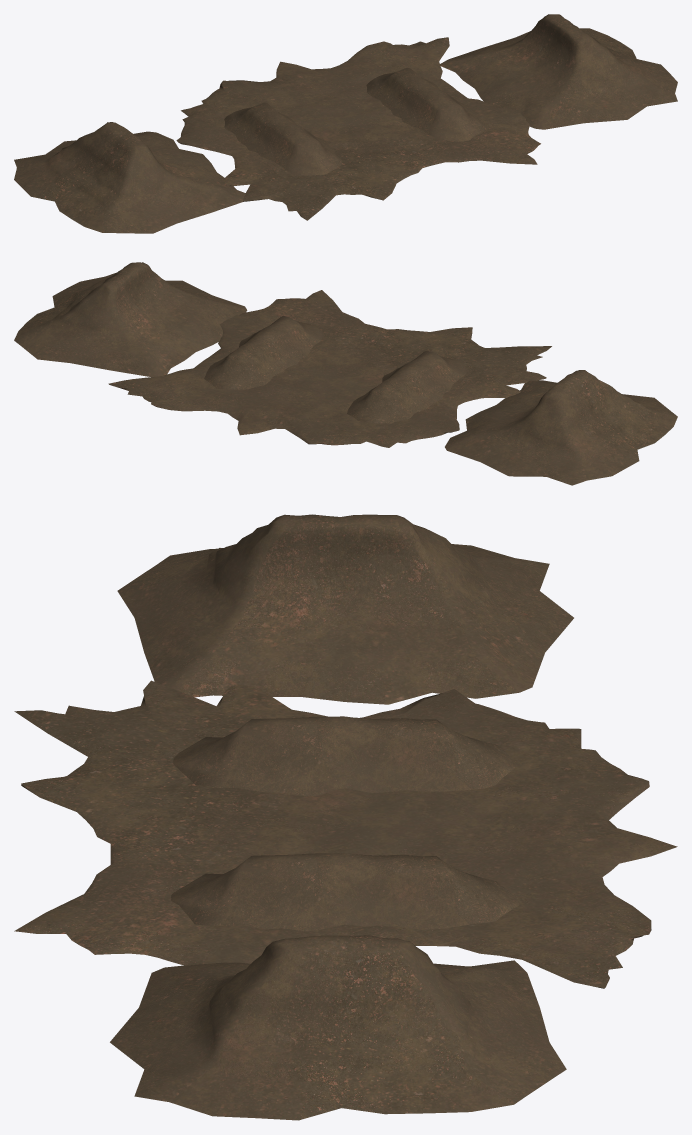
Rendered from temporary_beastdome_dirt_mound_ground.fbx.
The picture shows the model from 3 angles, top to bottom: view 1: azimuth 30°, elevation 25°; view 2: azimuth 150°, elevation 25°; view 3: azimuth 270°, elevation 25°; orthographic projection. The views are drawn at different scales.
Visible parts, largest first — view 1: dirt_ground_01, dirt_ramp_01, dirt_ramp_02, dirt_hill_02, dirt_hill_01; view 2: dirt_ground_01, dirt_ramp_01, dirt_ramp_02, dirt_hill_02, dirt_hill_01; view 3: dirt_ground_01, dirt_ramp_01, dirt_ramp_02, dirt_hill_01, dirt_hill_02.
Boxes of the visible parts, x1=… form: dirt_ground_01: x1=176, y1=37, x2=540, y2=220; dirt_ramp_01: x1=14, y1=122, x2=245, y2=233; dirt_ramp_02: x1=440, y1=14, x2=677, y2=129; dirt_hill_02: x1=366, y1=67, x2=487, y2=141; dirt_hill_01: x1=224, y1=102, x2=343, y2=175; dirt_ground_01: x1=108, y1=290, x2=551, y2=447; dirt_ramp_01: x1=445, y1=370, x2=677, y2=485; dirt_ramp_02: x1=14, y1=262, x2=247, y2=376; dirt_hill_02: x1=204, y1=315, x2=324, y2=389; dirt_hill_01: x1=347, y1=350, x2=468, y2=423; dirt_ground_01: x1=14, y1=680, x2=677, y2=988; dirt_ramp_01: x1=117, y1=514, x2=573, y2=704; dirt_ramp_02: x1=110, y1=935, x2=566, y2=1120; dirt_hill_01: x1=173, y1=716, x2=514, y2=796; dirt_hill_02: x1=170, y1=853, x2=519, y2=931.
Size of what is drawn, in the model's own units: 4361 by 357 by 2107.
Materials: 1 (1 with a texture image).
